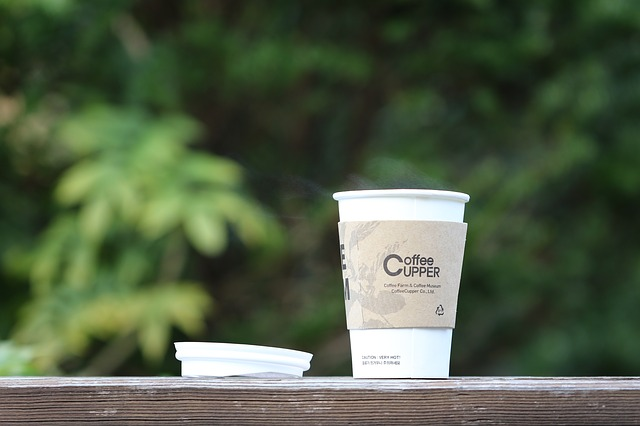cup: (326, 181, 482, 387)
